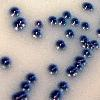Blue: (12, 18, 26, 32), (73, 55, 86, 70), (24, 71, 38, 84), (12, 90, 28, 100), (66, 65, 78, 78), (64, 28, 75, 42), (48, 89, 62, 100), (82, 2, 94, 14), (19, 80, 32, 91), (87, 39, 100, 50), (0, 54, 10, 68), (55, 38, 66, 50), (57, 79, 68, 91), (80, 48, 92, 59), (8, 6, 21, 16), (47, 63, 58, 74), (69, 17, 80, 27), (62, 9, 72, 19), (56, 16, 66, 26), (47, 16, 57, 26), (32, 29, 42, 39), (79, 33, 89, 43), (81, 21, 89, 31), (81, 42, 89, 50), (34, 19, 41, 28), (96, 28, 100, 37)
